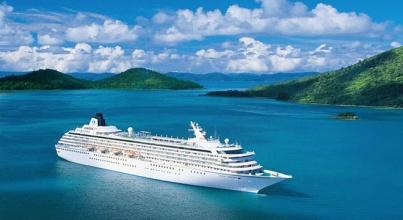youlun: (54, 108, 293, 193)
